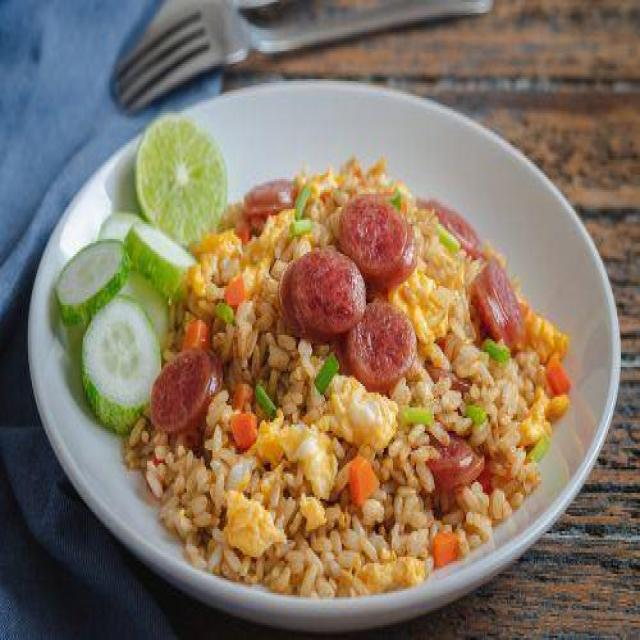Nasi Goreng: (165, 174, 552, 582)
